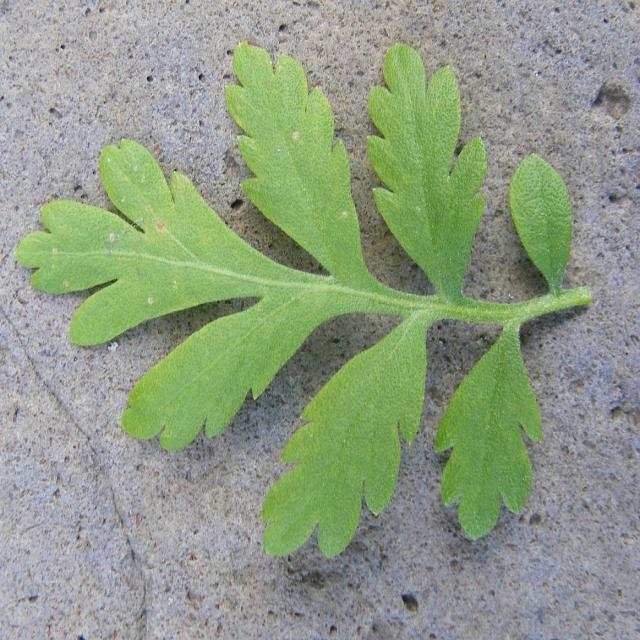Poisonous-Parthenium: (19, 42, 597, 564)
